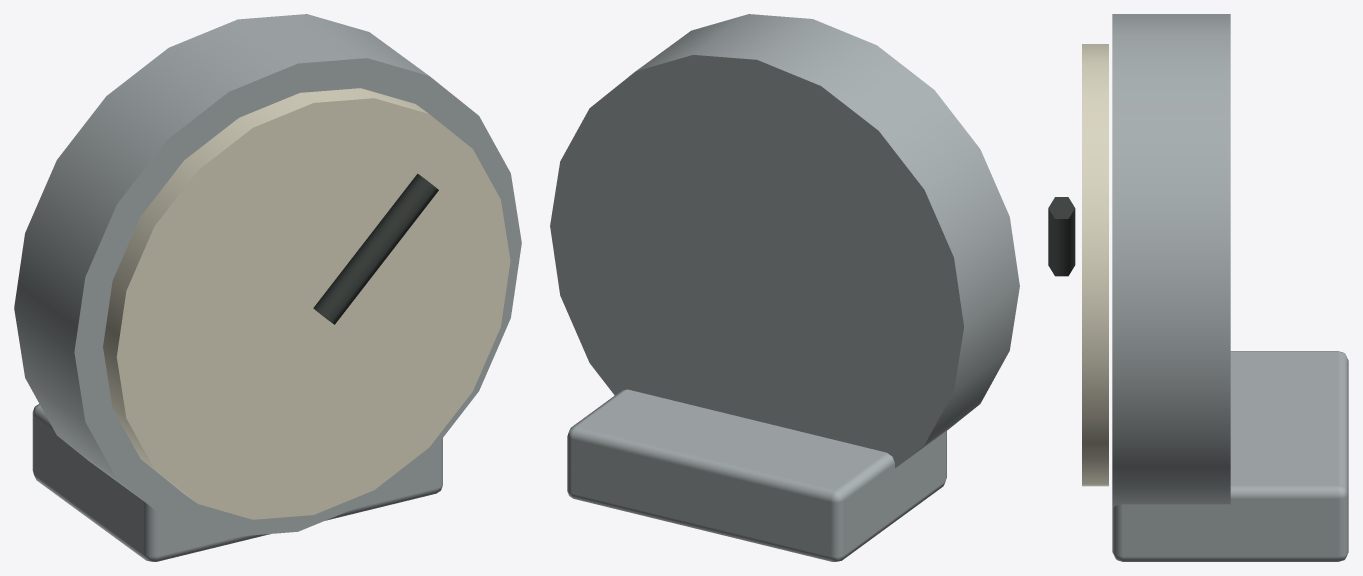
The model's file is survival-greenhouse-and-irrigation-humidity-gauge-3b53f846__21336.glb.
The picture shows the model from 3 angles, left to right: view 1: azimuth 30°, elevation 25°; view 2: azimuth 150°, elevation 25°; view 3: azimuth 270°, elevation 25°; orthographic projection. The views are drawn at different scales.
Parts seen in each view (by area): view 1: humidity-gauge; view 2: humidity-gauge; view 3: humidity-gauge.
Part boxes in pixels (bbox=[...]): humidity-gauge: bbox=[14, 14, 521, 561]; humidity-gauge: bbox=[550, 14, 1019, 561]; humidity-gauge: bbox=[1048, 14, 1348, 561].
Size of the model in its own units: 0.15 by 0.15 by 0.089.
